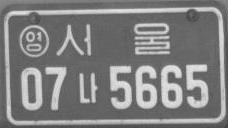0: (20, 66, 43, 111)
5: (184, 63, 209, 109), (108, 64, 132, 110)
6: (134, 64, 158, 110), (159, 64, 183, 110)
7: (44, 65, 67, 111)
나: (78, 71, 98, 105)
서울_D: (55, 21, 171, 56)
영: (19, 24, 50, 58)
